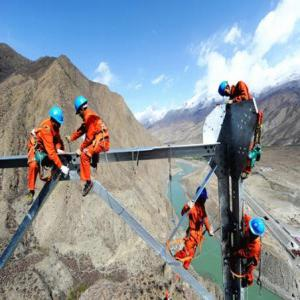blue: (49, 105, 65, 132), (74, 95, 90, 120), (249, 215, 265, 240), (196, 185, 209, 209), (219, 80, 232, 101)
